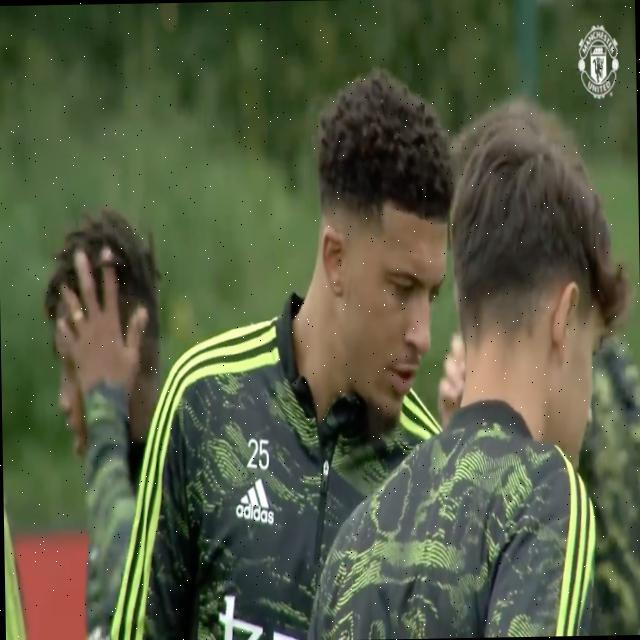Adidas: (235, 477, 274, 526)
